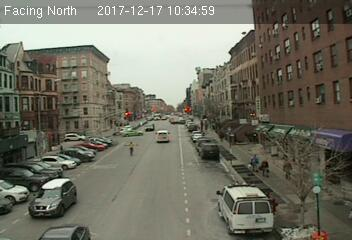car: (28, 180, 80, 218), (198, 143, 219, 159), (154, 129, 170, 144)
police: (216, 182, 273, 235)
